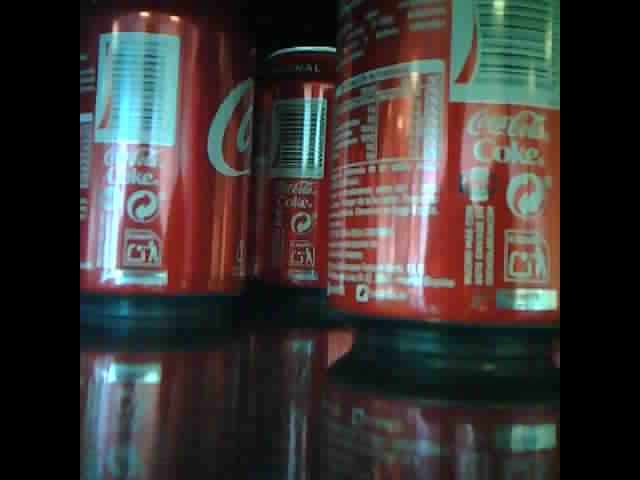coca cola: (324, 2, 559, 318), (77, 1, 257, 319), (250, 43, 335, 303)
